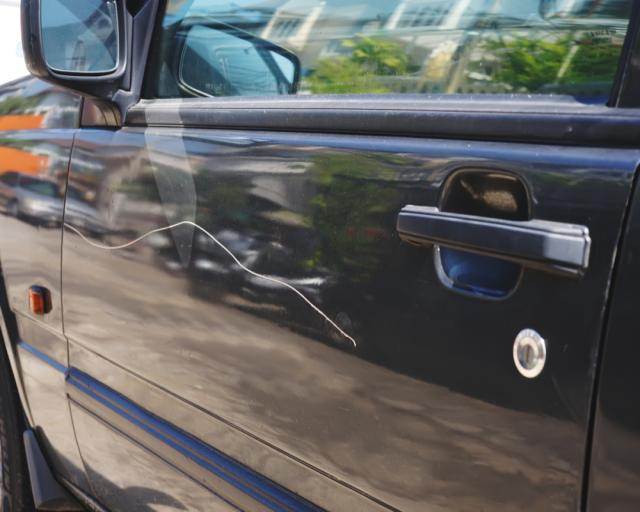scratch: (60, 218, 362, 350)
